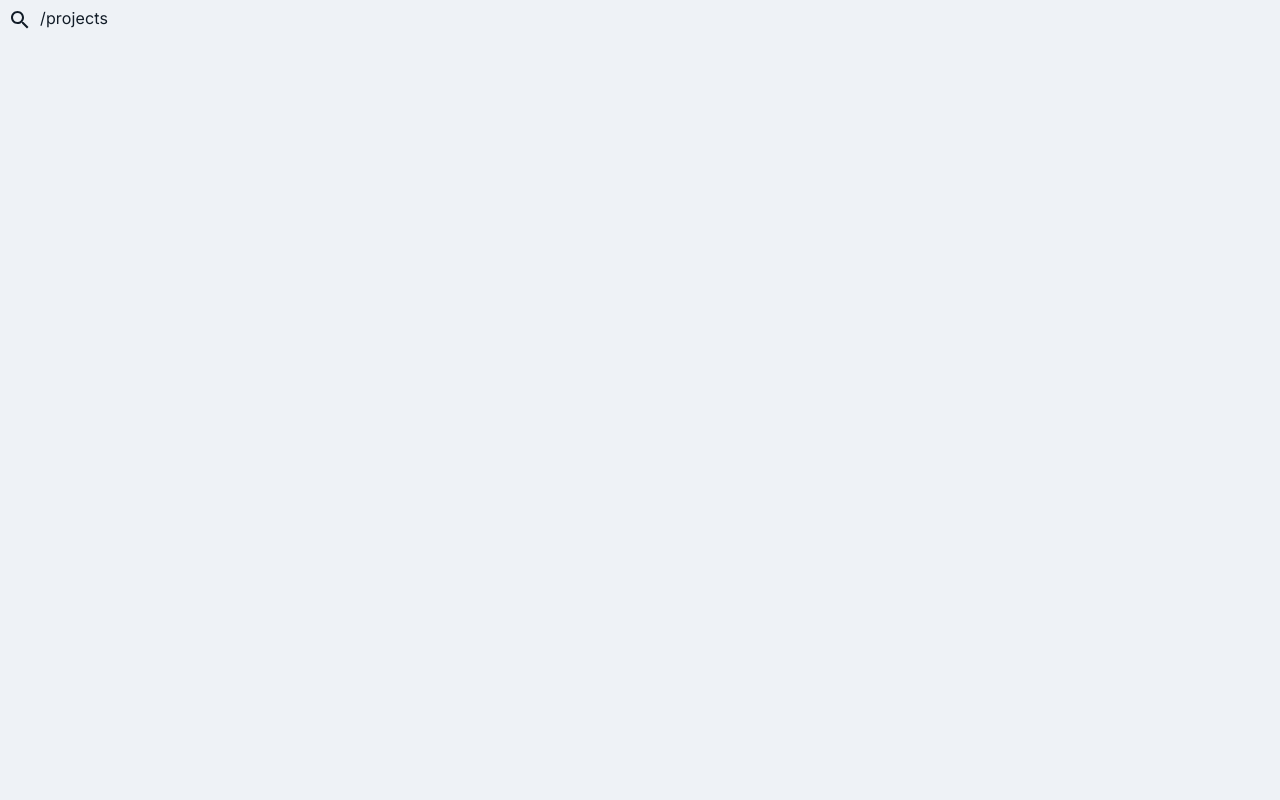
Test case: command palette › overdue milestones lists only the overdue ones
Press k
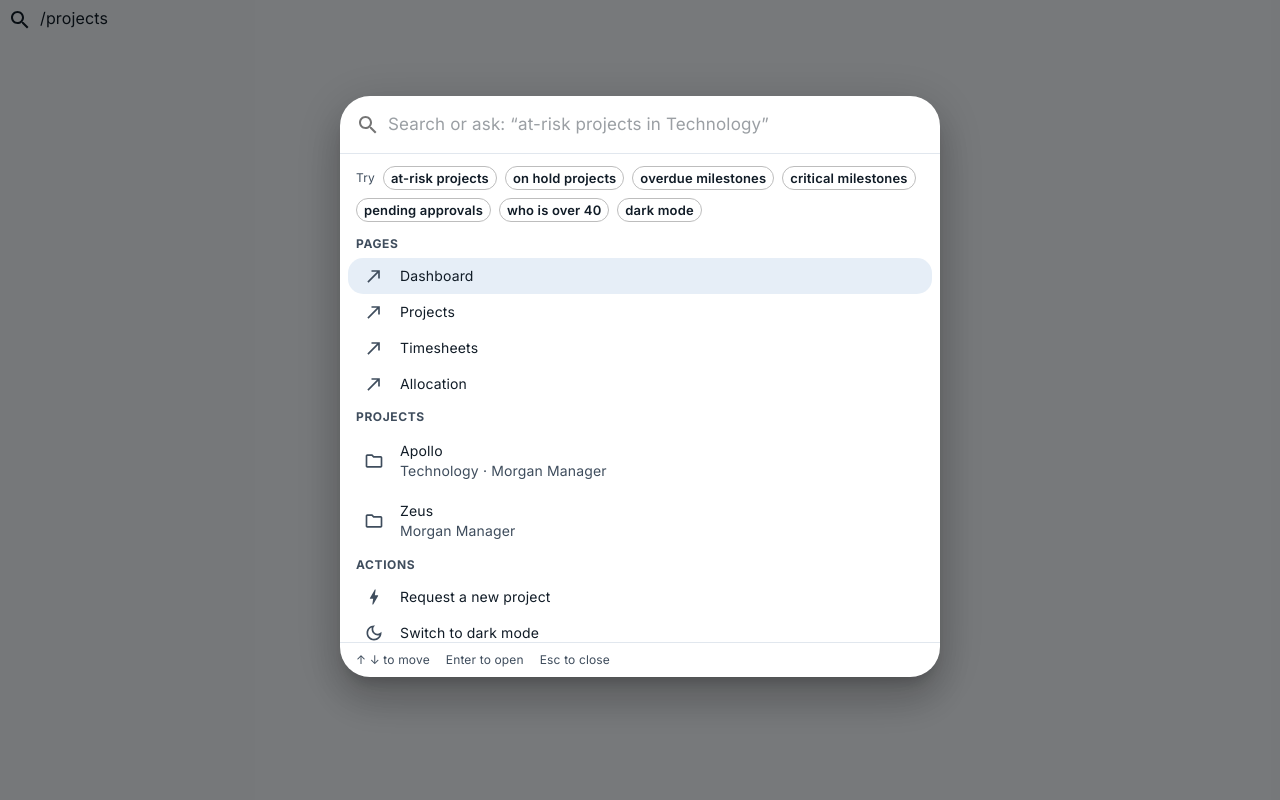
Type "overdue milestones" into the dropdown.
click(656, 125); type("overdue milestones")  # box left=388, top=108, right=924, bottom=141
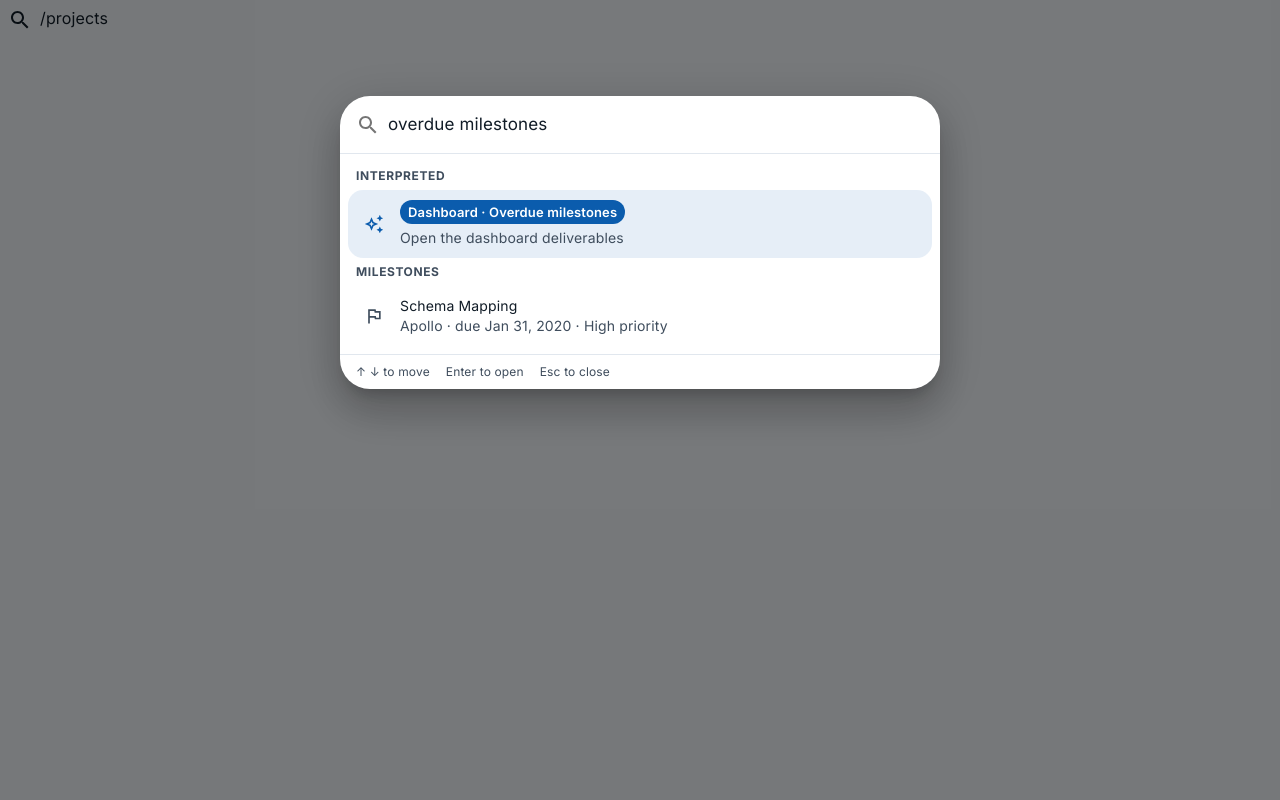
Result: the text "Dashboard · Overdue milestones" is shown at left=400, top=203, right=625, bottom=222
Result: the option "Schema Mapping Apollo · due Jan 31, 2020 · High priority" is shown at left=364, top=298, right=668, bottom=334
